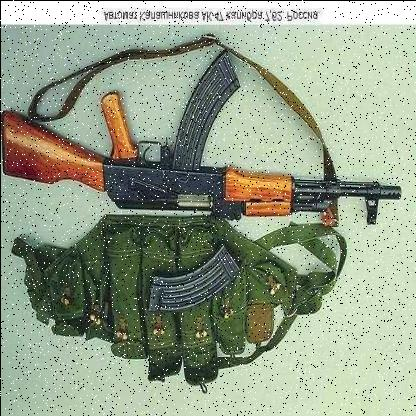rifle: (1, 44, 408, 227)
